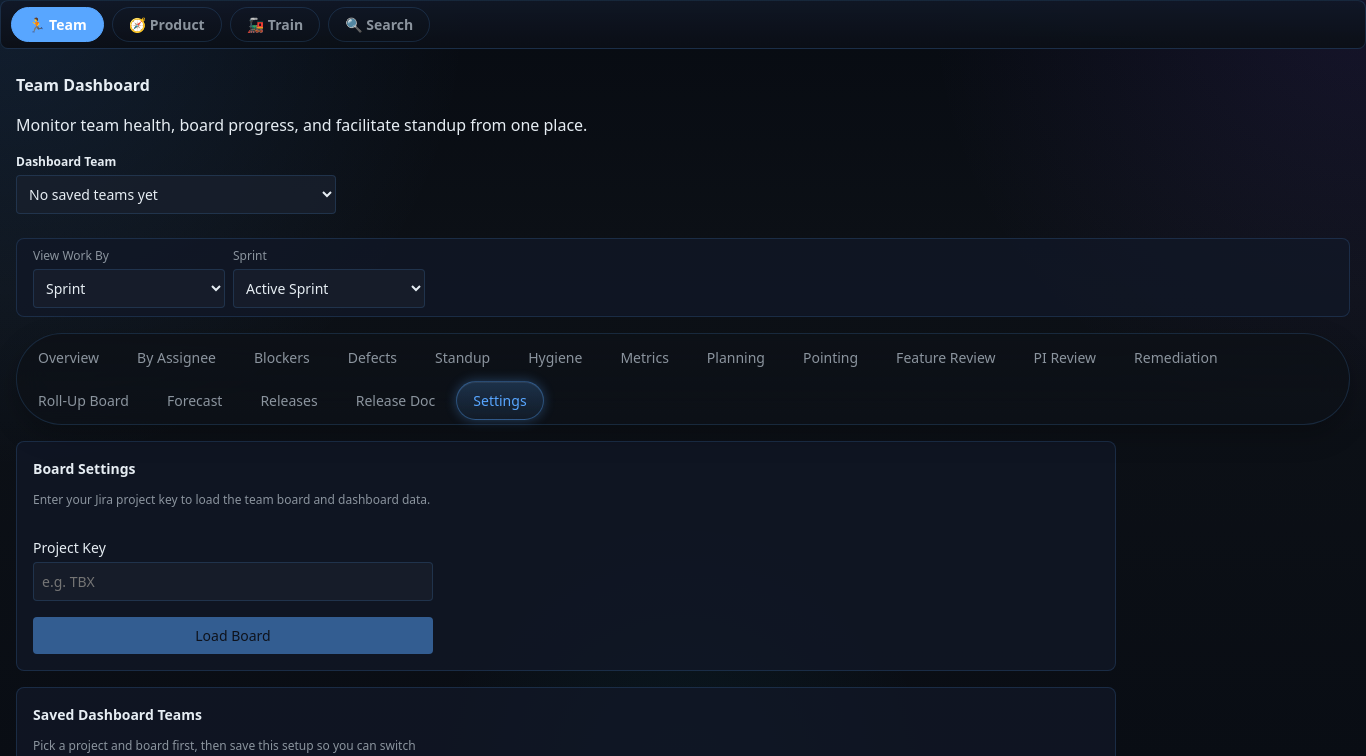
Test case: AgileHubView › leaves foreign query params untouched for the mounted view to consume
Click the button "🚂 Train".
click(275, 24)  # box [230, 7, 320, 42]
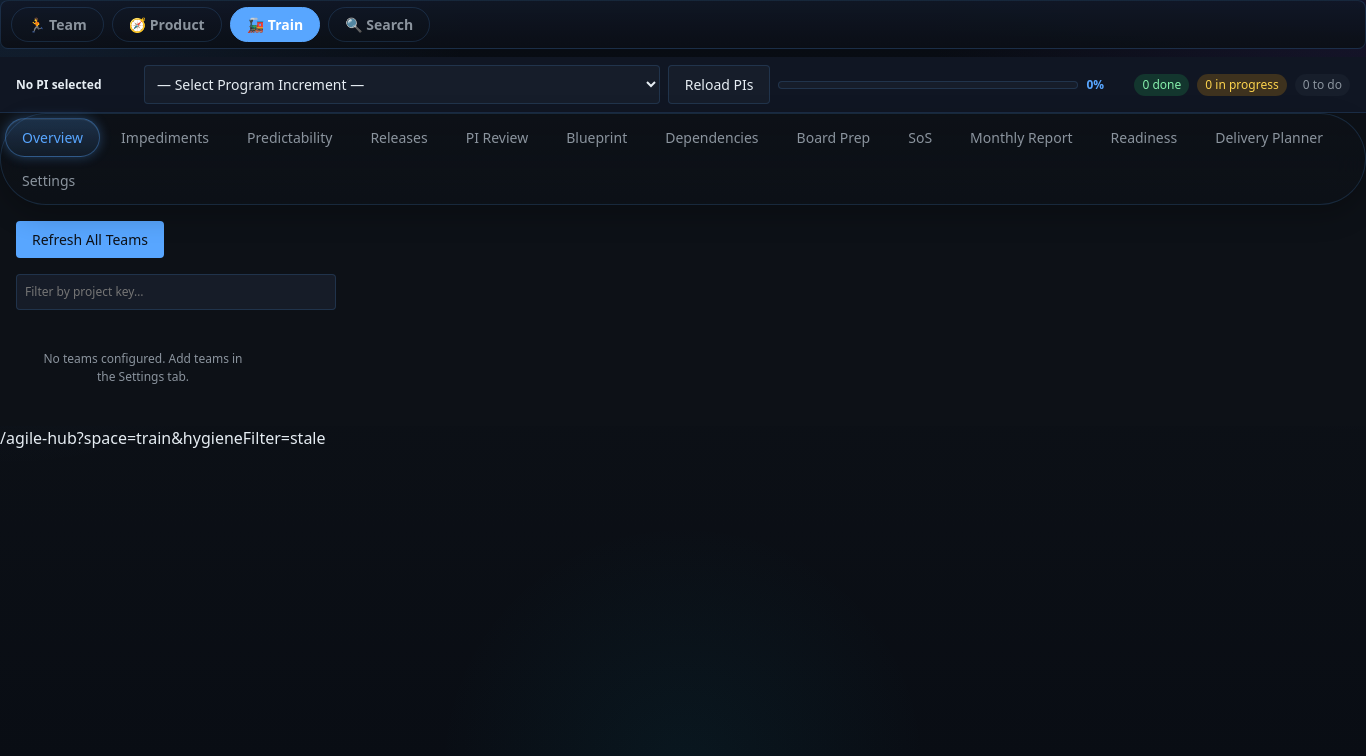
Expected: the text with test id "location-probe" shows "hygieneFilter=stale", [0, 427, 326, 449]
Now the text with test id "location-probe" shows "space=train", box [0, 427, 326, 449]
